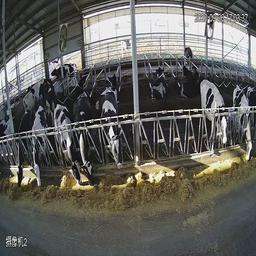cow: (48, 101, 80, 200), (97, 82, 127, 185), (72, 85, 95, 196), (199, 75, 227, 165), (233, 81, 254, 163), (10, 103, 28, 192), (30, 101, 46, 195), (176, 56, 201, 101), (148, 61, 172, 106), (29, 69, 58, 104)
